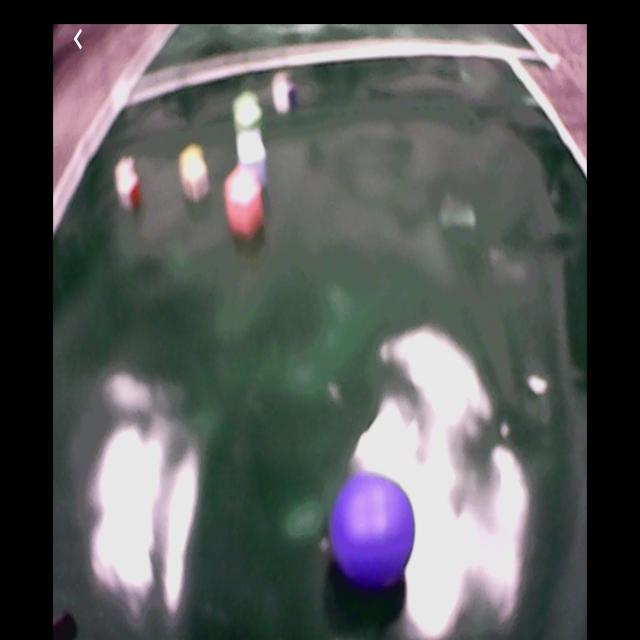ball: (332, 474, 416, 586)
